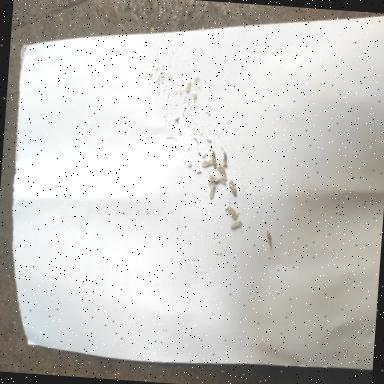pbw: (226, 204, 240, 220), (230, 218, 243, 232), (210, 147, 218, 169), (228, 180, 238, 196), (208, 182, 216, 200), (201, 157, 214, 168), (216, 163, 226, 177), (265, 230, 272, 246), (222, 151, 228, 168), (208, 174, 218, 182)
